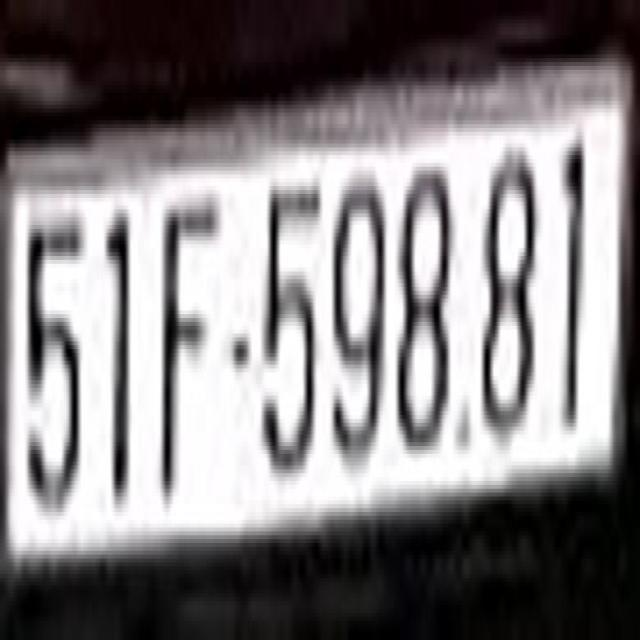1: (558, 124, 588, 473), (102, 210, 136, 504)
5: (22, 198, 84, 512), (261, 174, 318, 488)
8: (478, 136, 538, 462), (396, 151, 453, 458)
9: (329, 159, 383, 465)
F: (160, 198, 222, 489)
